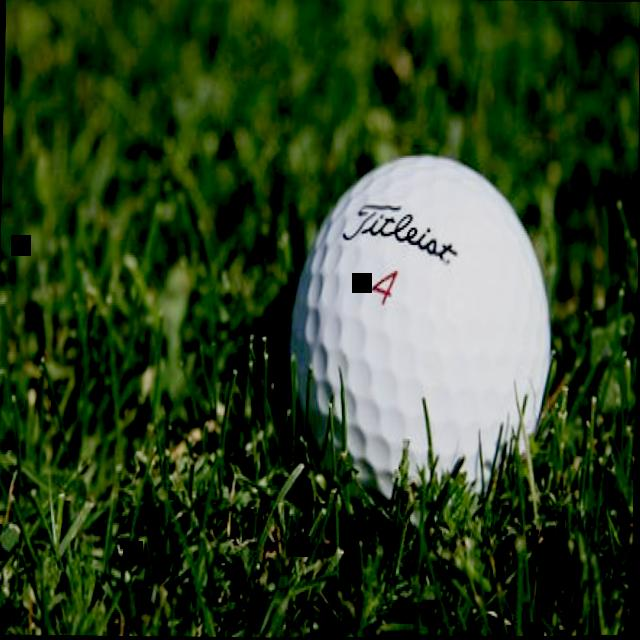golf ball: (280, 134, 565, 516)
